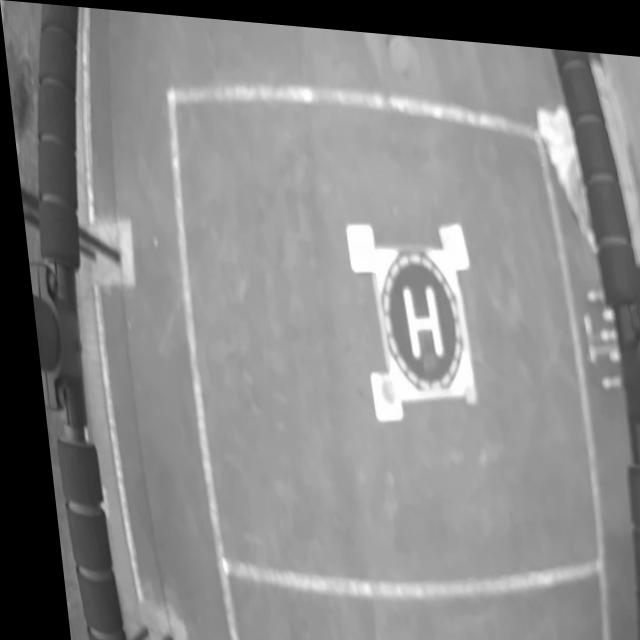Helipad: (395, 281, 438, 351)
